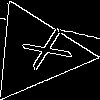X: (11, 27, 73, 76)
